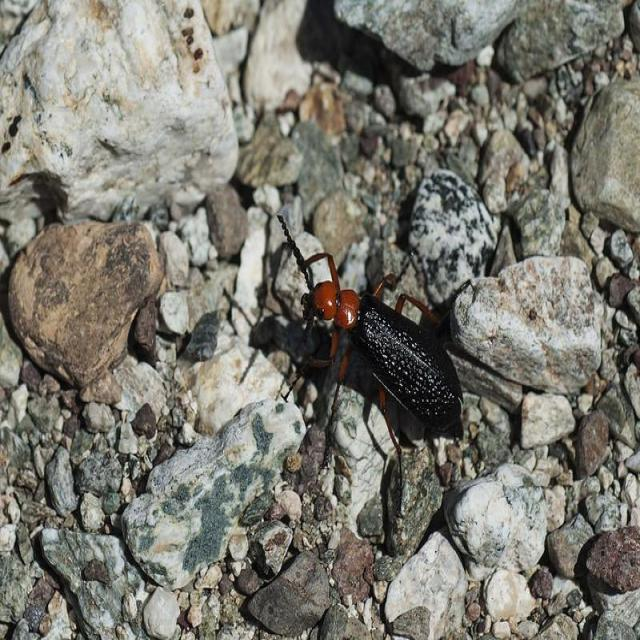BlisterBeetle-Adult-: (273, 208, 465, 436)
